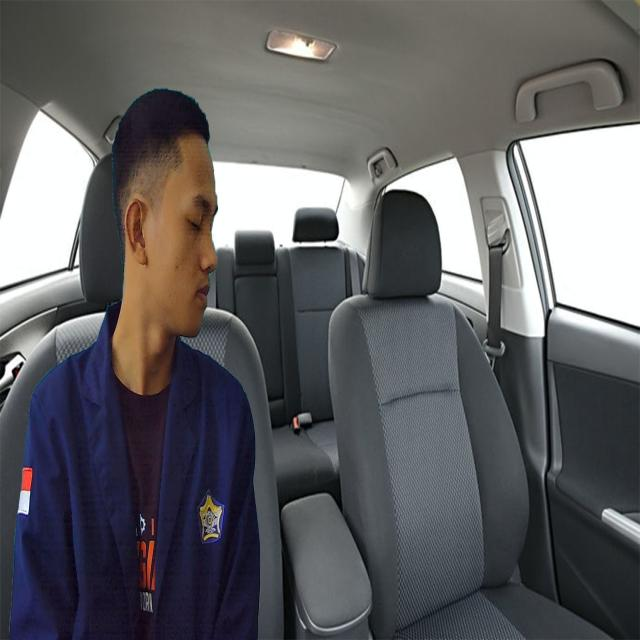no-seatbelt: (140, 124, 232, 346)
